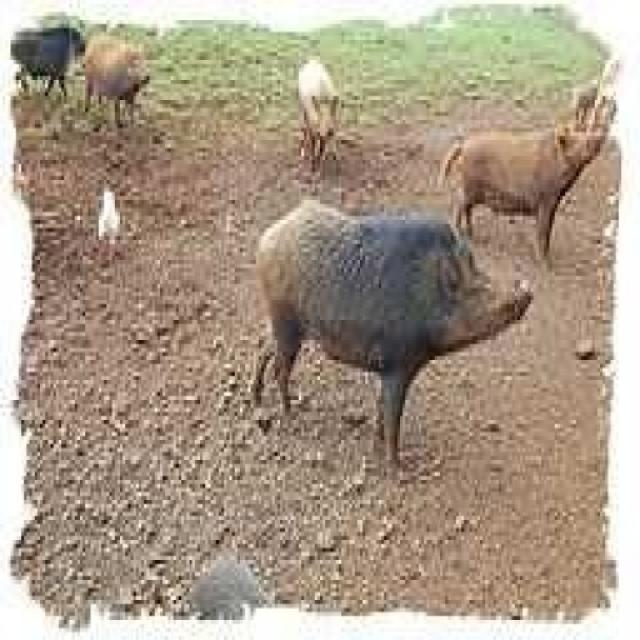pig: (267, 185, 550, 490)
